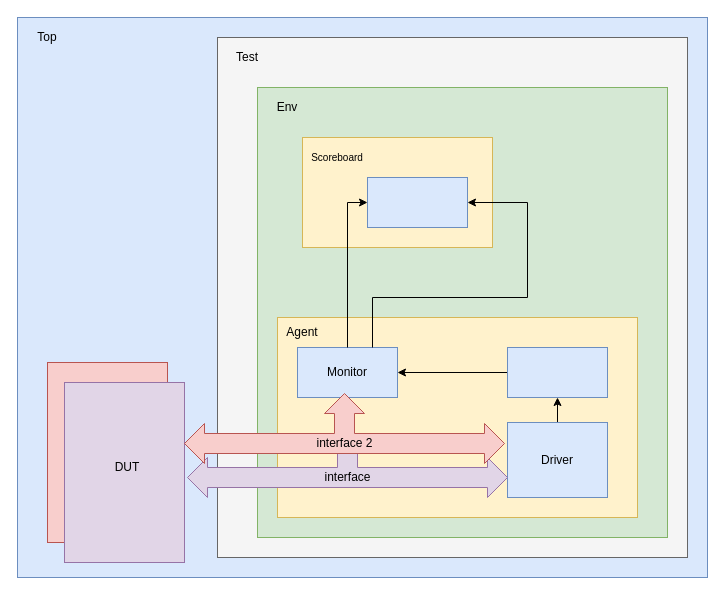
Some shapes in this 725 by 595 pixel diagram are drawn without their labels. Here are the shapes that lost their labels. From the top down, the centre of each, then its label:
the point at 417,202: Compatator
the point at 557,372: Sequencer
